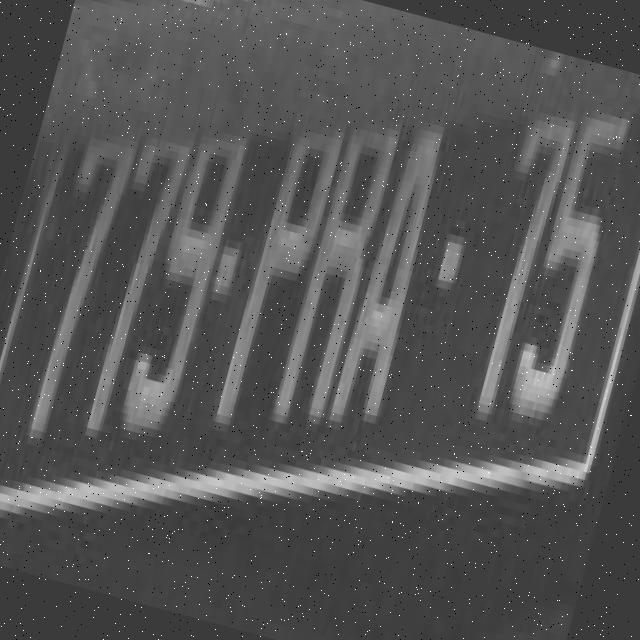Autre: (0, 101, 640, 496)
